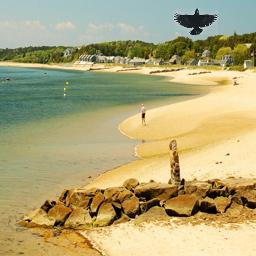Crow: (173, 8, 218, 35)
